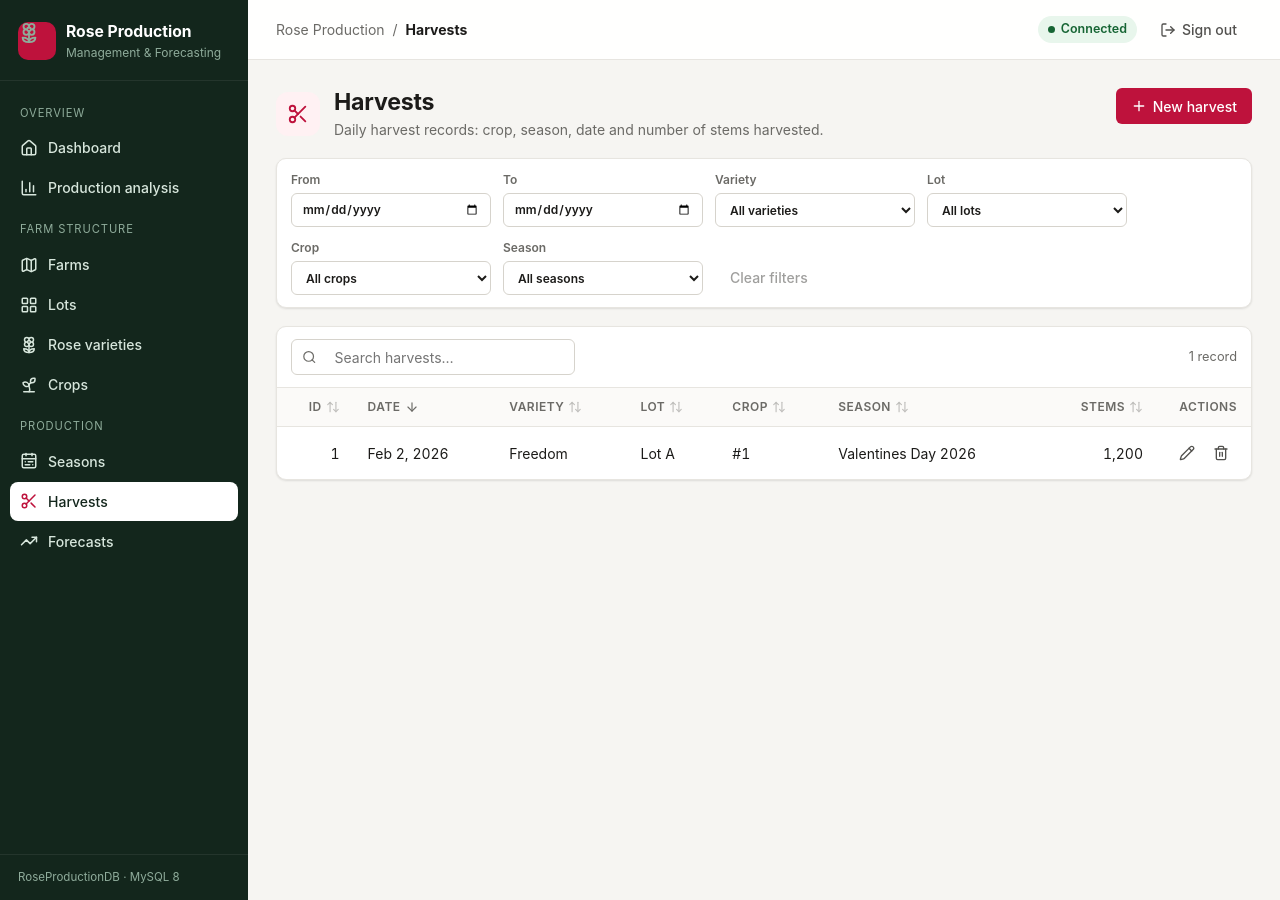
Test: harvest form › explains out-of-season dates and non-positive quantities
Expected: the text "Valentines Day 2026" is shown, x1=824 y1=426 x2=1040 y2=479
Click the button "New harvest" at (1184, 106), box x1=1116 y1=88 x2=1252 y2=124
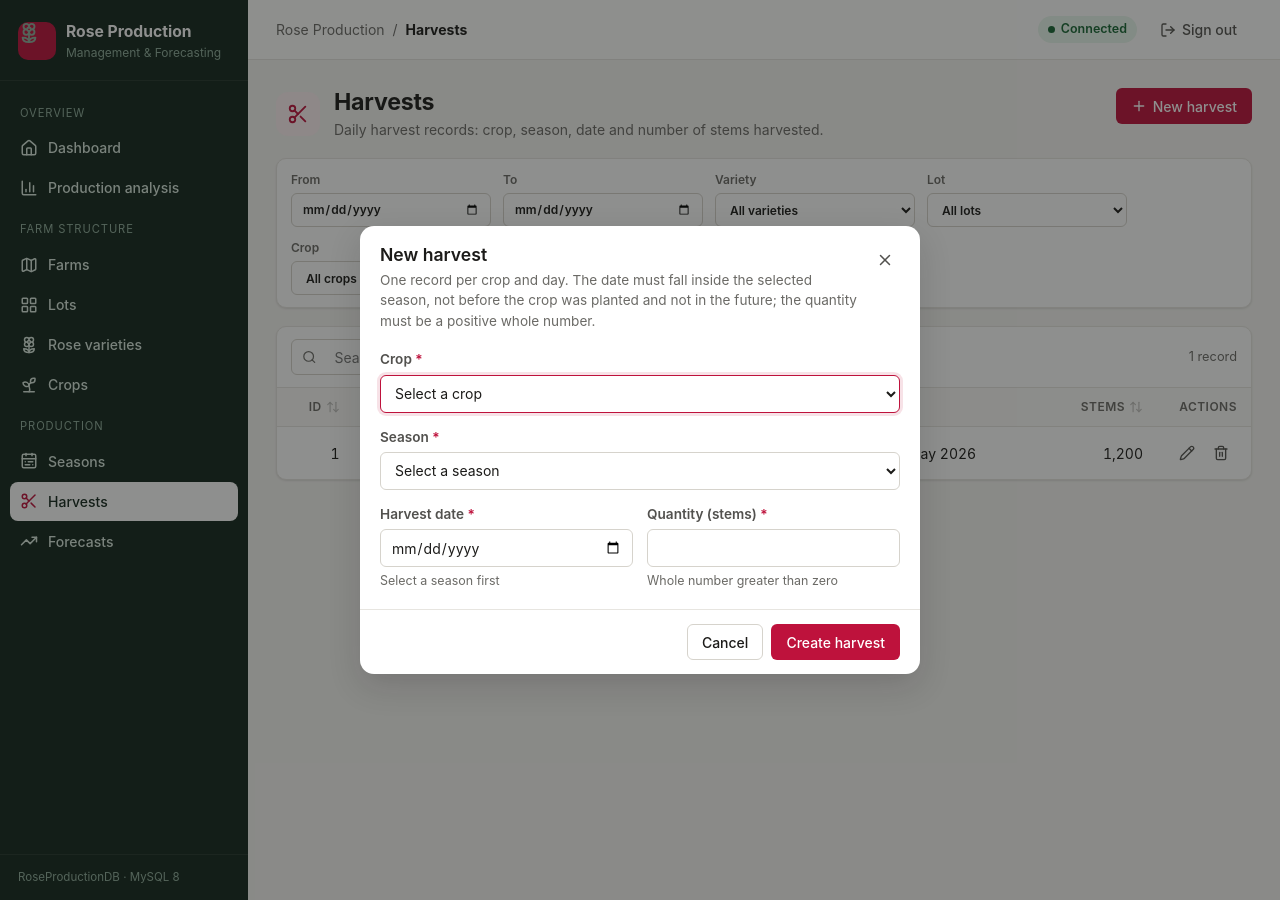
Select "#1 · Freedom · Lot A" in the dropdown labelled "Crop *" at (640, 394), box x1=380 y1=374 x2=900 y2=412
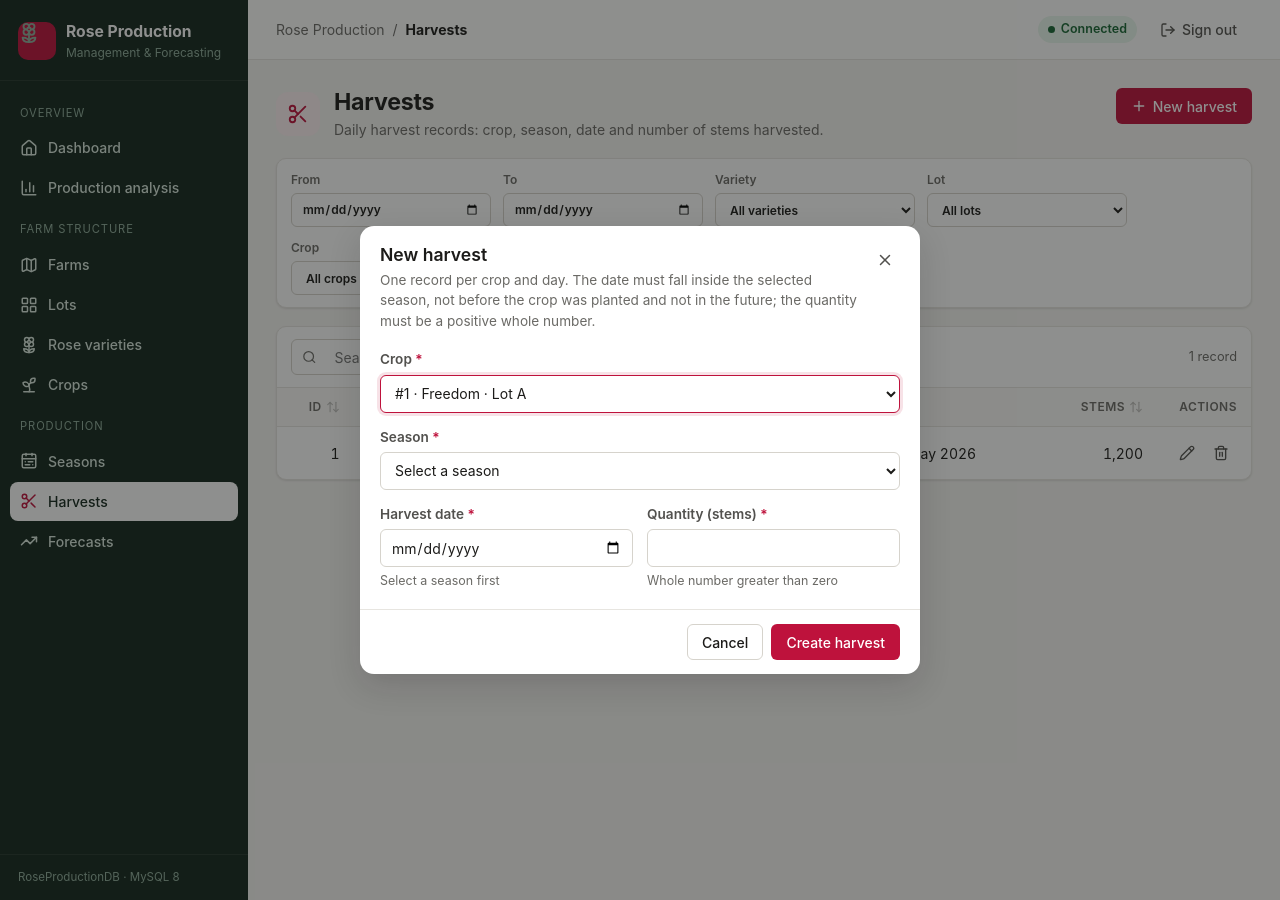
Select "Valentines Day 2026 (2026-02-01 → 2026-02-14)" in the dropdown labelled "Season *" at (640, 471), box x1=380 y1=452 x2=900 y2=490
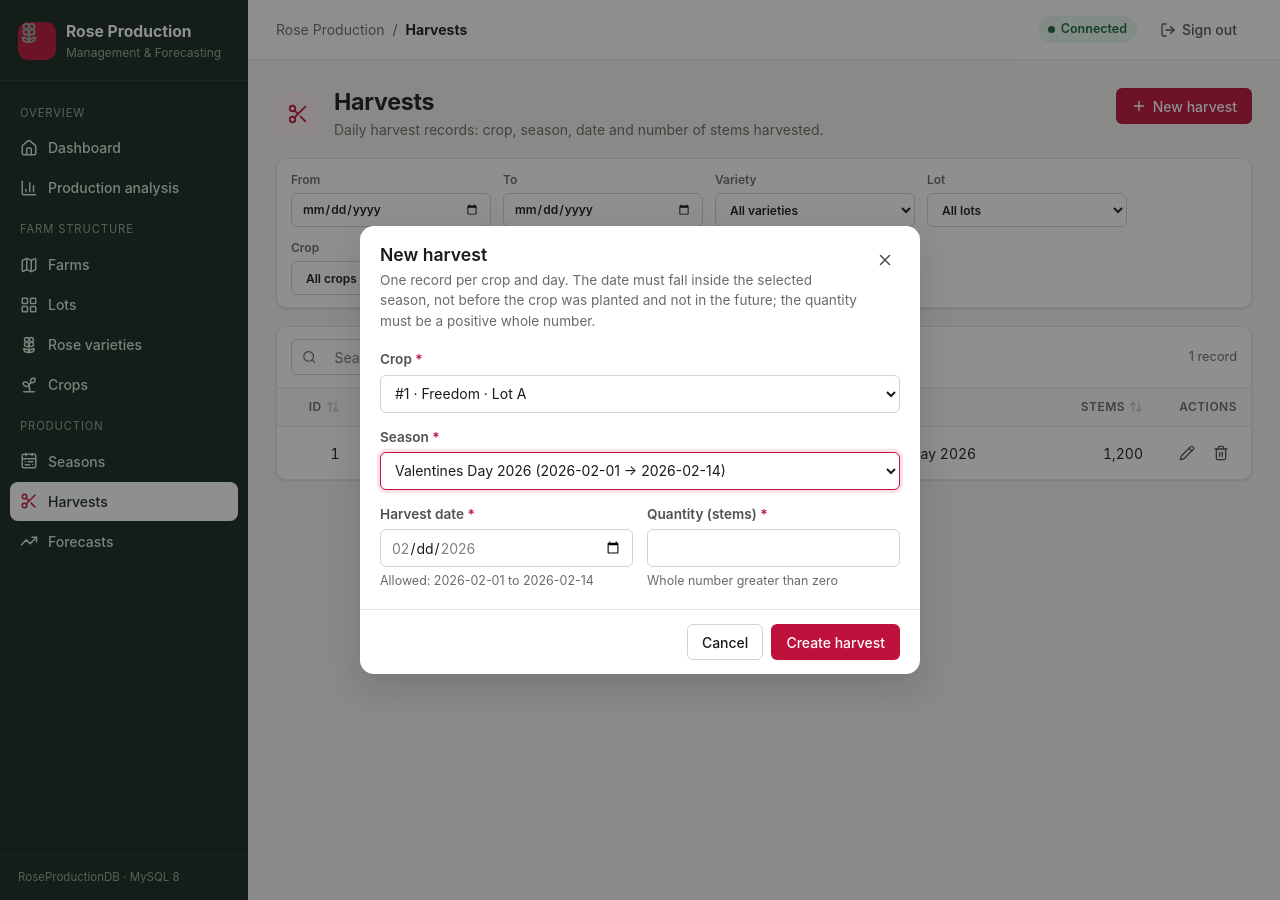
Type "2026-03-01" into the date field labelled "Harvest date *" at (506, 548), box x1=380 y1=529 x2=633 y2=567
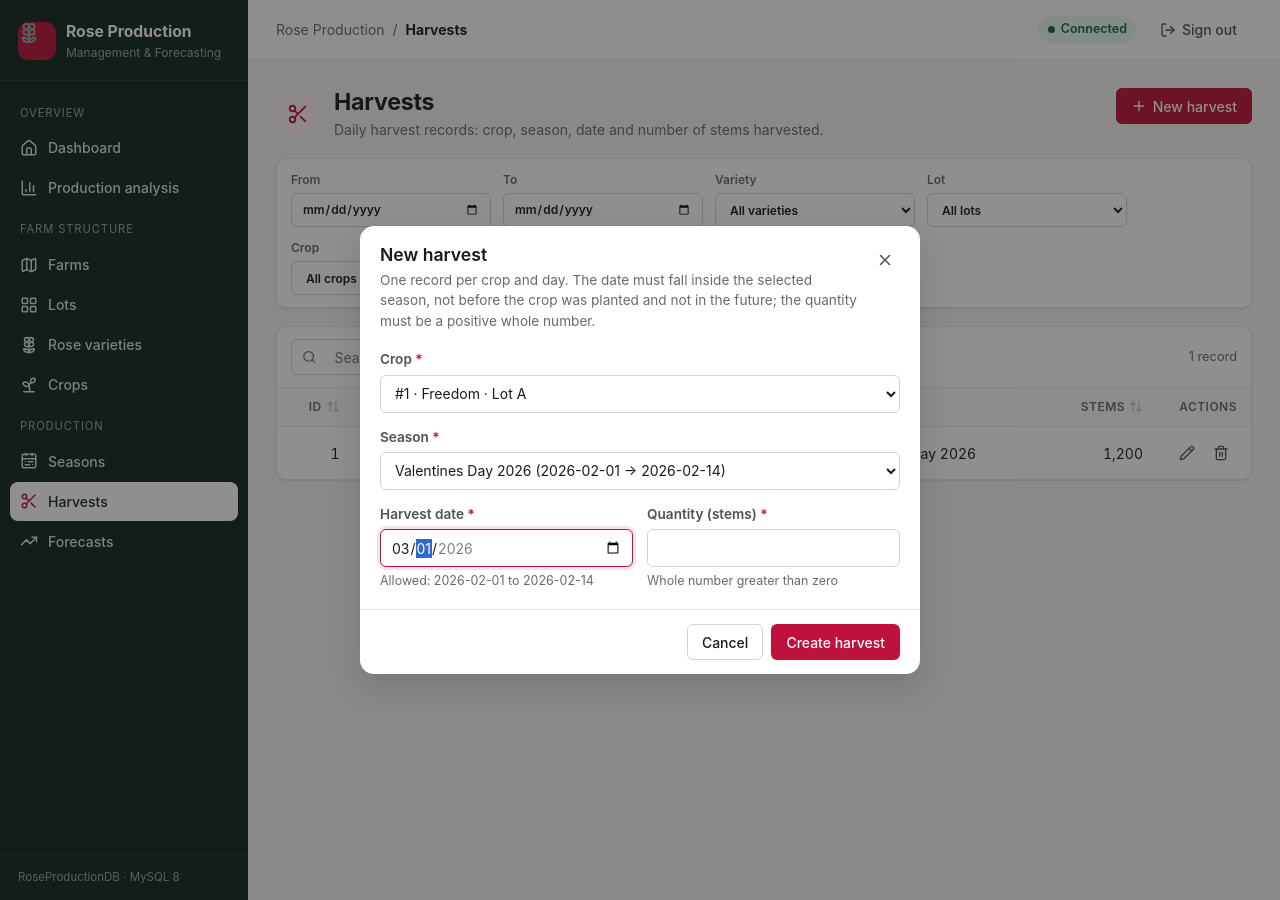
Type "0" into the number field labelled "Quantity (stems) *" at (774, 548), box x1=647 y1=529 x2=900 y2=567
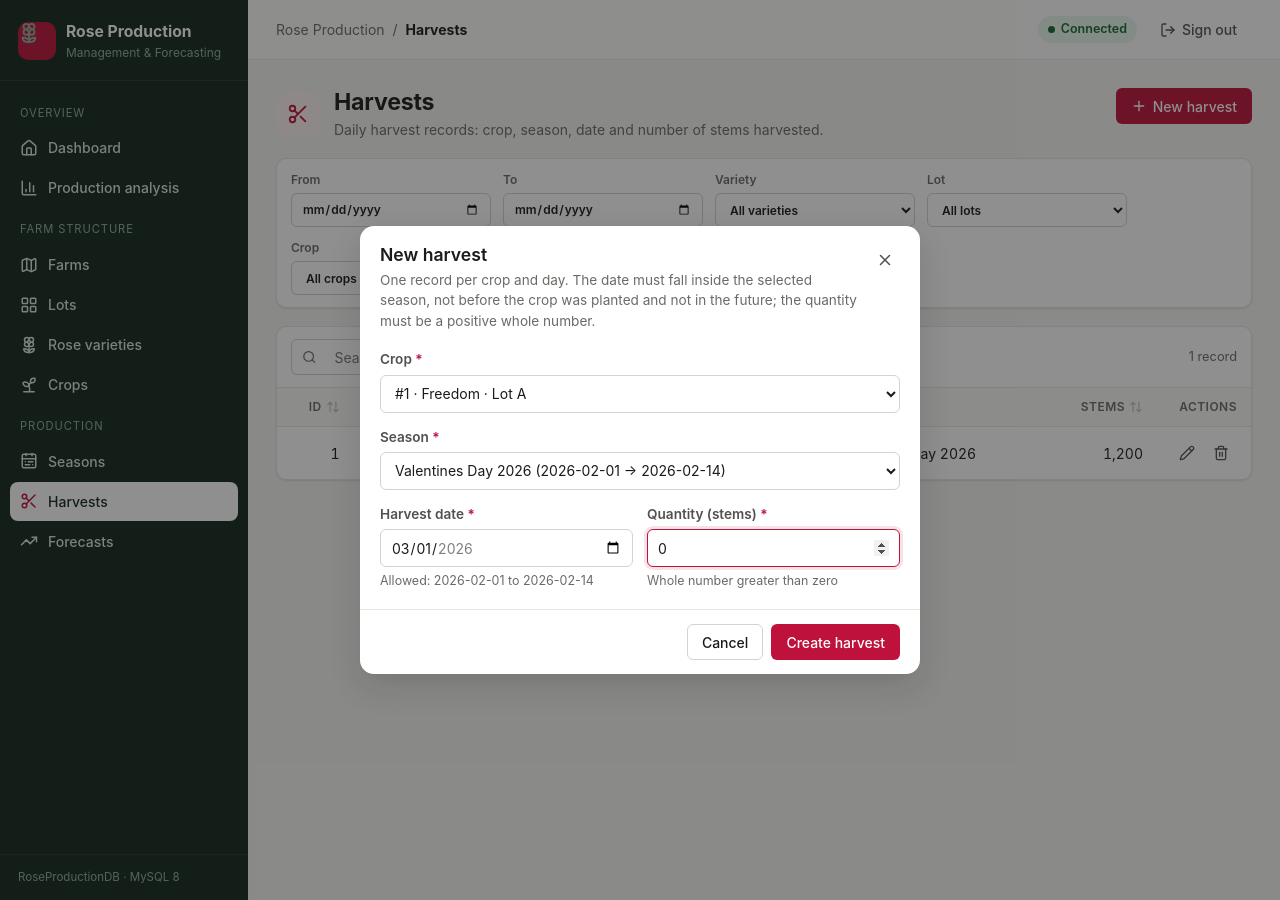
Click the button "Create harvest" at (836, 642), box x1=771 y1=624 x2=900 y2=660
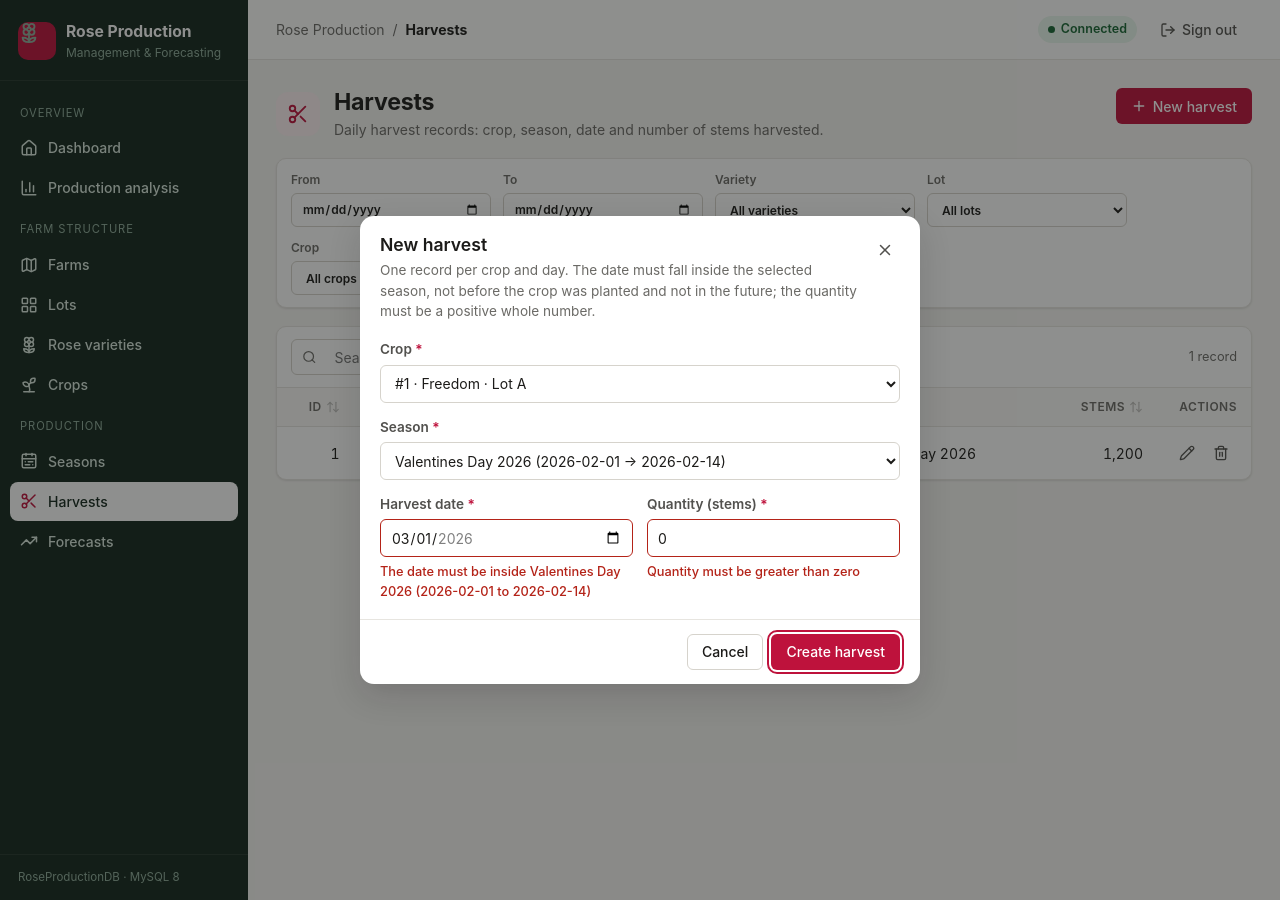
Expected: the text "The date must be inside Valentines Day 2026 (2026-02-01 to 2026-02-14)" is shown, x1=380 y1=562 x2=633 y2=601
Expected: the text "Quantity must be greater than zero" is shown, x1=647 y1=564 x2=860 y2=580
